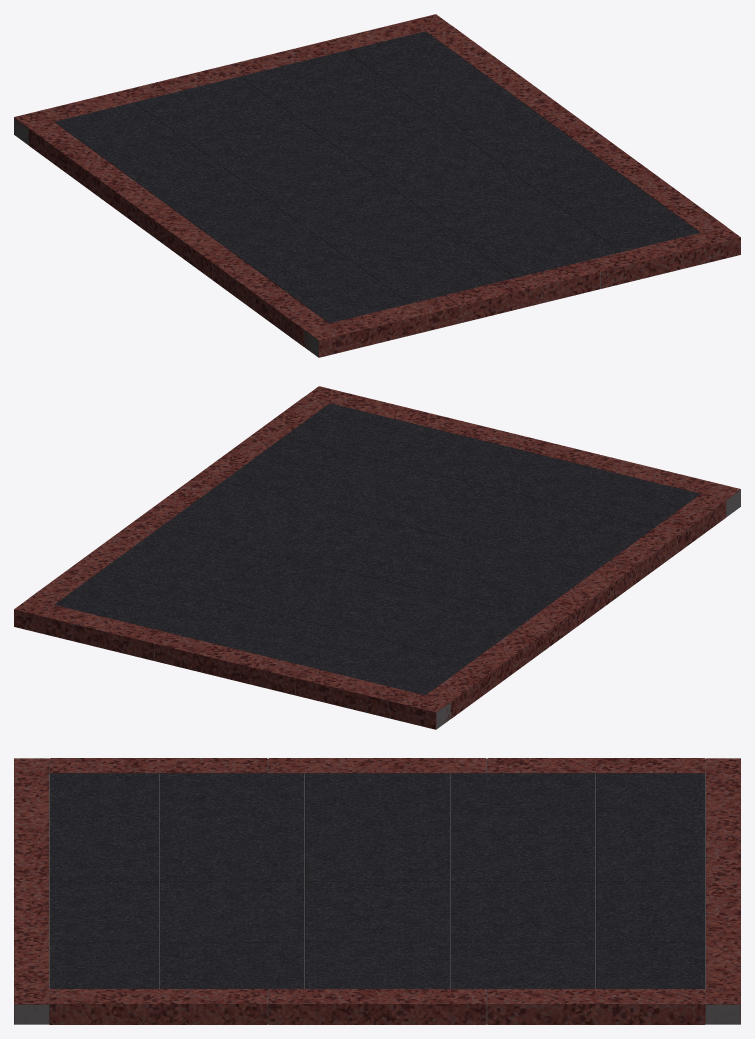
File: floor-bordo-standard.glb
3 renders of one model, top to bottom at view 1: azimuth 30°, elevation 25°; view 2: azimuth 150°, elevation 25°; view 3: azimuth 270°, elevation 25°, orthographic. The views are drawn at different scales.
Visible parts, largest first — view 1: Stone_field_bordo, Stone_edge_bordo, Joint_and_bedding_bordo; view 2: Stone_field_bordo, Stone_edge_bordo, Joint_and_bedding_bordo; view 3: Stone_field_bordo, Stone_edge_bordo, Joint_and_bedding_bordo.
Part boxes in pixels (box(x1,y1,x2,y2)): Stone_field_bordo: box(54, 31, 700, 323); Stone_edge_bordo: box(14, 14, 740, 357); Joint_and_bedding_bordo: box(14, 52, 600, 357); Stone_field_bordo: box(54, 403, 700, 695); Stone_edge_bordo: box(14, 386, 740, 729); Joint_and_bedding_bordo: box(154, 424, 740, 729); Stone_field_bordo: box(49, 773, 705, 989); Stone_edge_bordo: box(14, 758, 740, 1024); Joint_and_bedding_bordo: box(14, 759, 740, 1024).
Size of the model in its own units: 2.4 by 0.096 by 3.
Materials: 3 (2 with a texture image).
